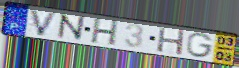3: (124, 24, 147, 50)
G: (186, 32, 216, 59)
H: (155, 26, 187, 56), (89, 17, 121, 47)
N: (56, 12, 86, 42)
V: (29, 8, 59, 38)
